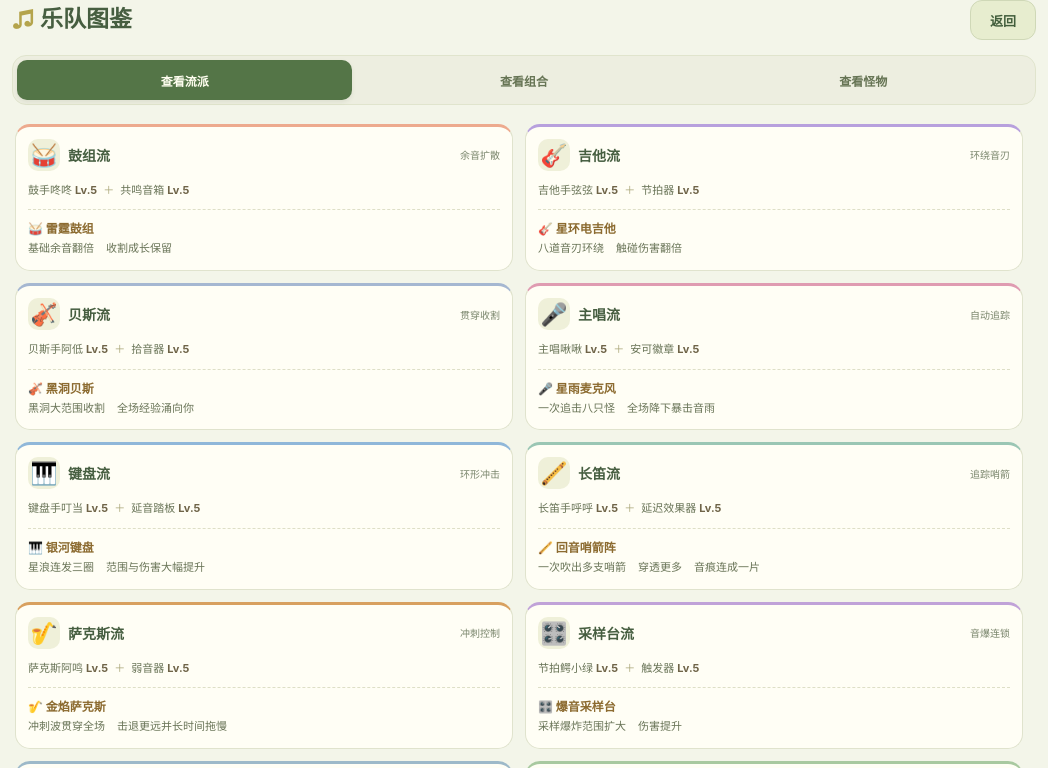
Test case: switches to the source-of-truth combo effects and resets list scrolling
Click the tab "查看组合".
click(524, 80)  # box left=356, top=60, right=692, bottom=100
(page scrolled)
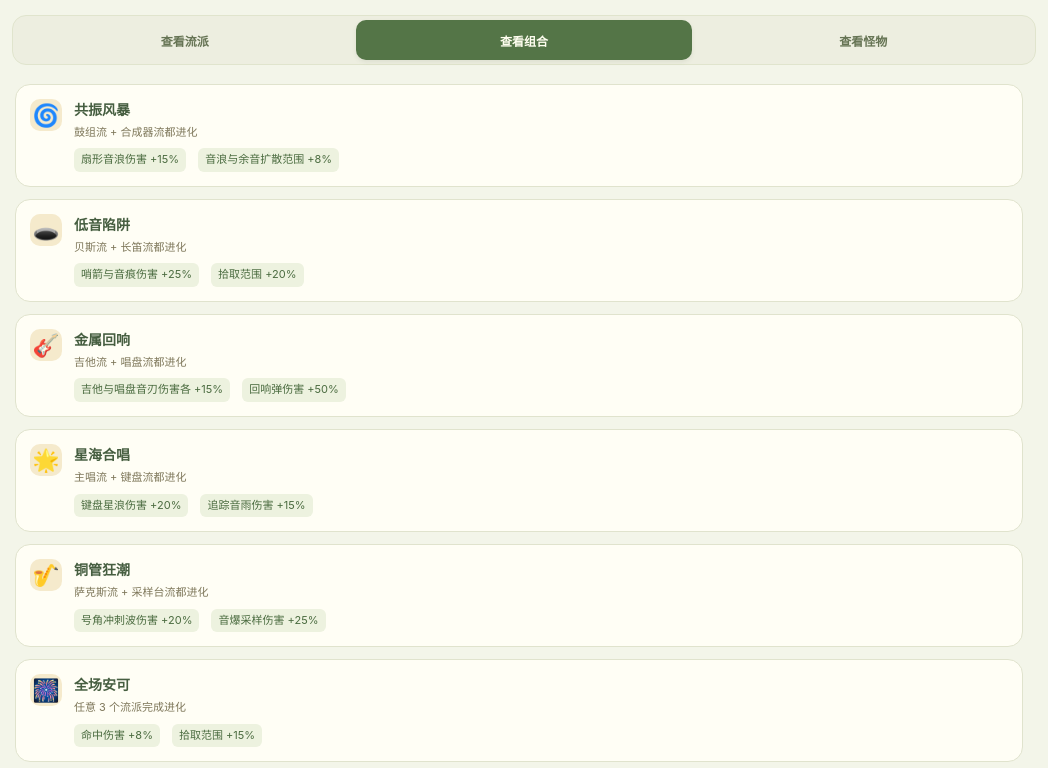
Expected: the heading "共振风暴" is shown, left=74, top=101, right=130, bottom=118
Expected: the text "鼓组流 + 合成器流都进化" is shown, left=74, top=125, right=198, bottom=139
Expected: the heading "低音陷阱" is shown, left=74, top=216, right=130, bottom=233
